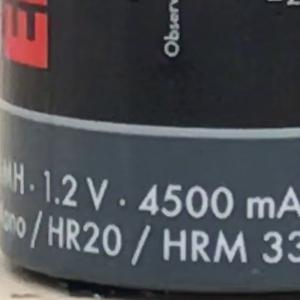HR20: (39, 215, 131, 257)
